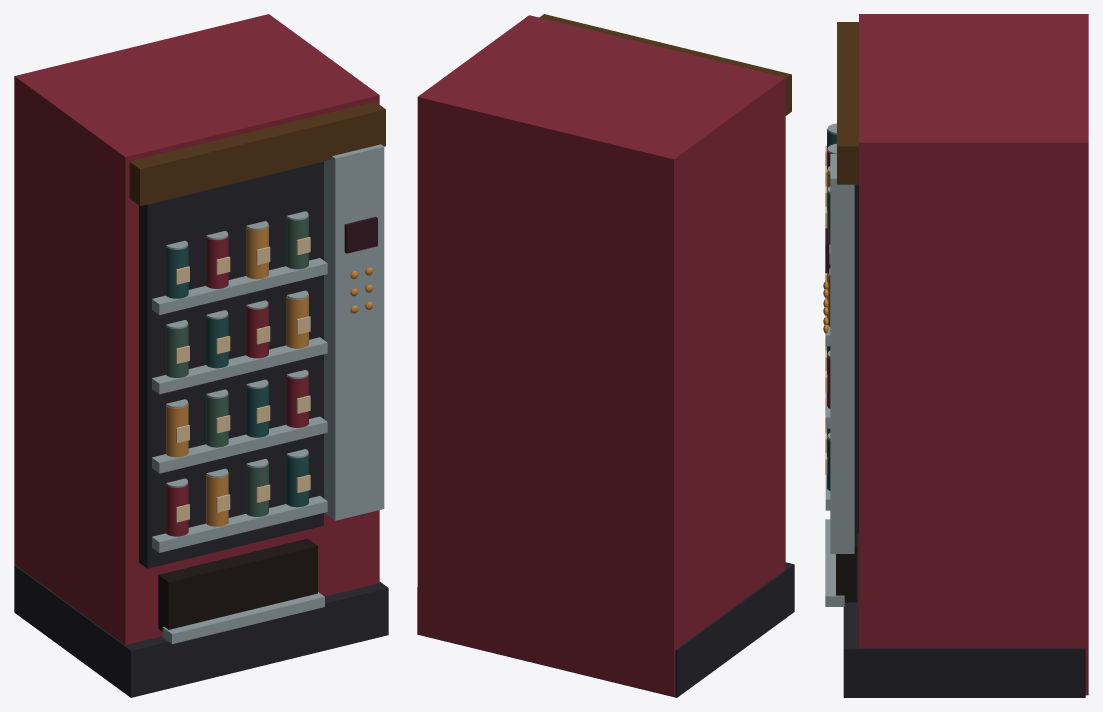
File: mia-vending.glb
3 renders of one model, left to right at view 1: azimuth 30°, elevation 25°; view 2: azimuth 150°, elevation 25°; view 3: azimuth 270°, elevation 25°, orthographic. The views are drawn at different scales.
Visible parts, largest first — view 1: Body_velvet, Body_iron, Body_steel, Body_wood, Body_black, Body_brass, Body_teal, Body_sage, Body_ivory, Body_dark; view 2: Body_velvet, Body_iron, Body_wood; view 3: Body_velvet, Body_iron, Body_steel, Body_wood, Body_black, Body_ivory, Body_brass.
Part boxes in pixels (x1,y1,x2,y2): Body_velvet: (14,14,379,644); Body_iron: (14,161,388,697); Body_steel: (152,144,384,644); Body_wood: (129,101,385,206); Body_black: (158,538,317,631); Body_brass: (166,224,373,526); Body_teal: (166,244,308,507); Body_sage: (166,214,308,516); Body_ivory: (176,237,310,522); Body_dark: (344,217,377,253); Body_velvet: (417,15,785,696); Body_iron: (417,562,794,697); Body_wood: (539,14,791,115); Body_velvet: (827,14,1088,695); Body_iron: (843,184,1085,697); Body_steel: (825,123,854,606); Body_wood: (837,22,858,184); Body_black: (836,533,857,602); Body_ivory: (825,145,827,474); Body_brass: (823,169,830,333).
Bounding box in the file's own units: 0.956 × 1.9 × 0.822.
